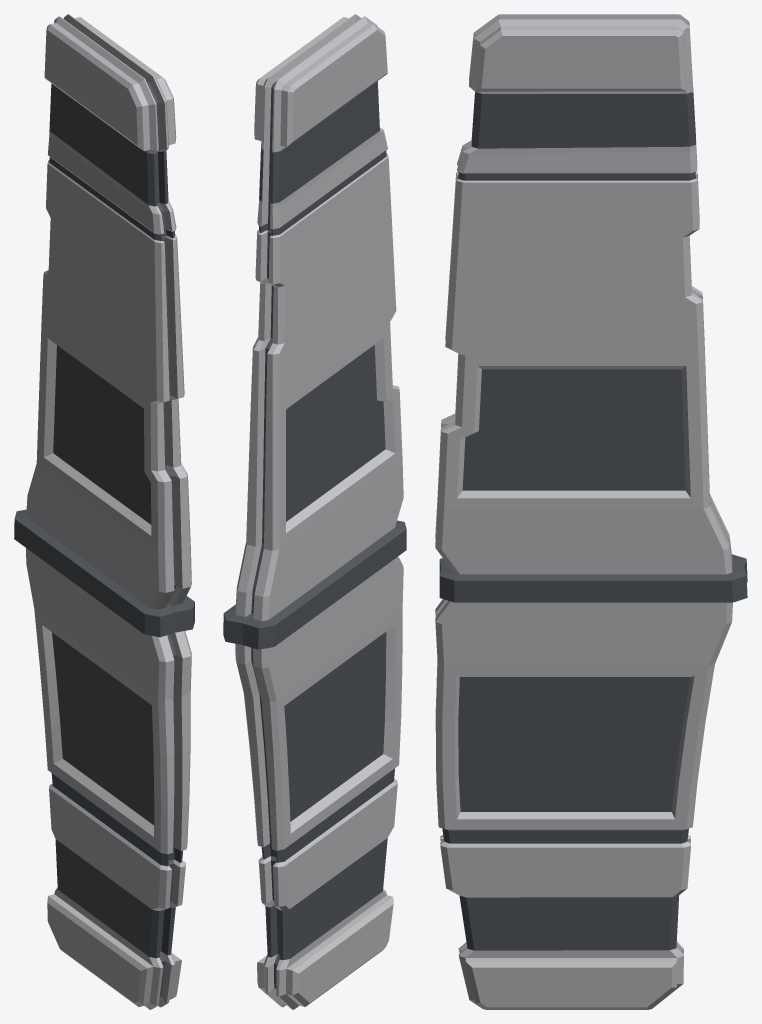
The model's file is Fighter_05_Wing_Left.fbx.
3 views of the same model, side by side, from view 1: azimuth 30°, elevation 25°; view 2: azimuth 150°, elevation 25°; view 3: azimuth 270°, elevation 25° (orthographic). The views are drawn at different scales.
Parts seen in each view (by area): view 1: Fighter_05_Wing_Left; view 2: Fighter_05_Wing_Left; view 3: Fighter_05_Wing_Left.
Boxes of the visible parts, x1,y1,x2,y2 form: Fighter_05_Wing_Left: (14,14,194,1009); Fighter_05_Wing_Left: (223,14,406,1009); Fighter_05_Wing_Left: (435,14,747,1009).
Size of the model in its own units: 103 by 1811 by 518.
1 material, 1 textured.
